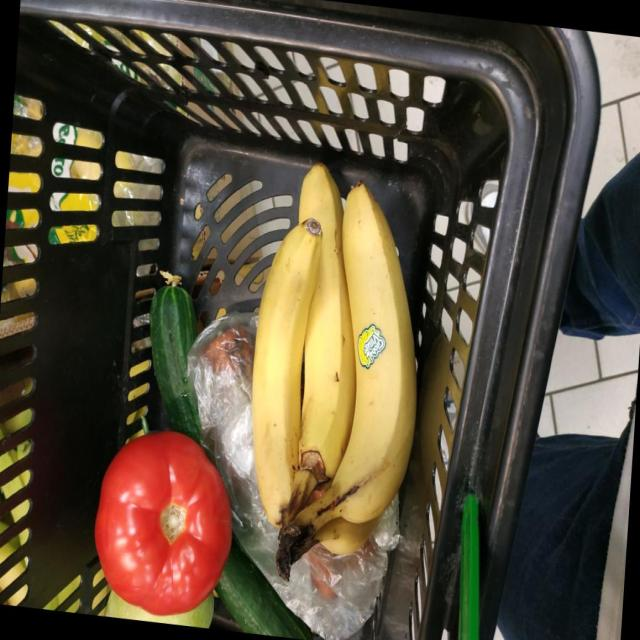Apple: (106, 589, 213, 628)
Banana: (281, 182, 416, 566), (282, 162, 354, 522), (251, 219, 321, 523), (314, 516, 378, 554)
Carrot: (204, 323, 252, 375)
Cucumber: (215, 539, 312, 640), (149, 271, 201, 442)
Tomatoes: (93, 430, 231, 615)
